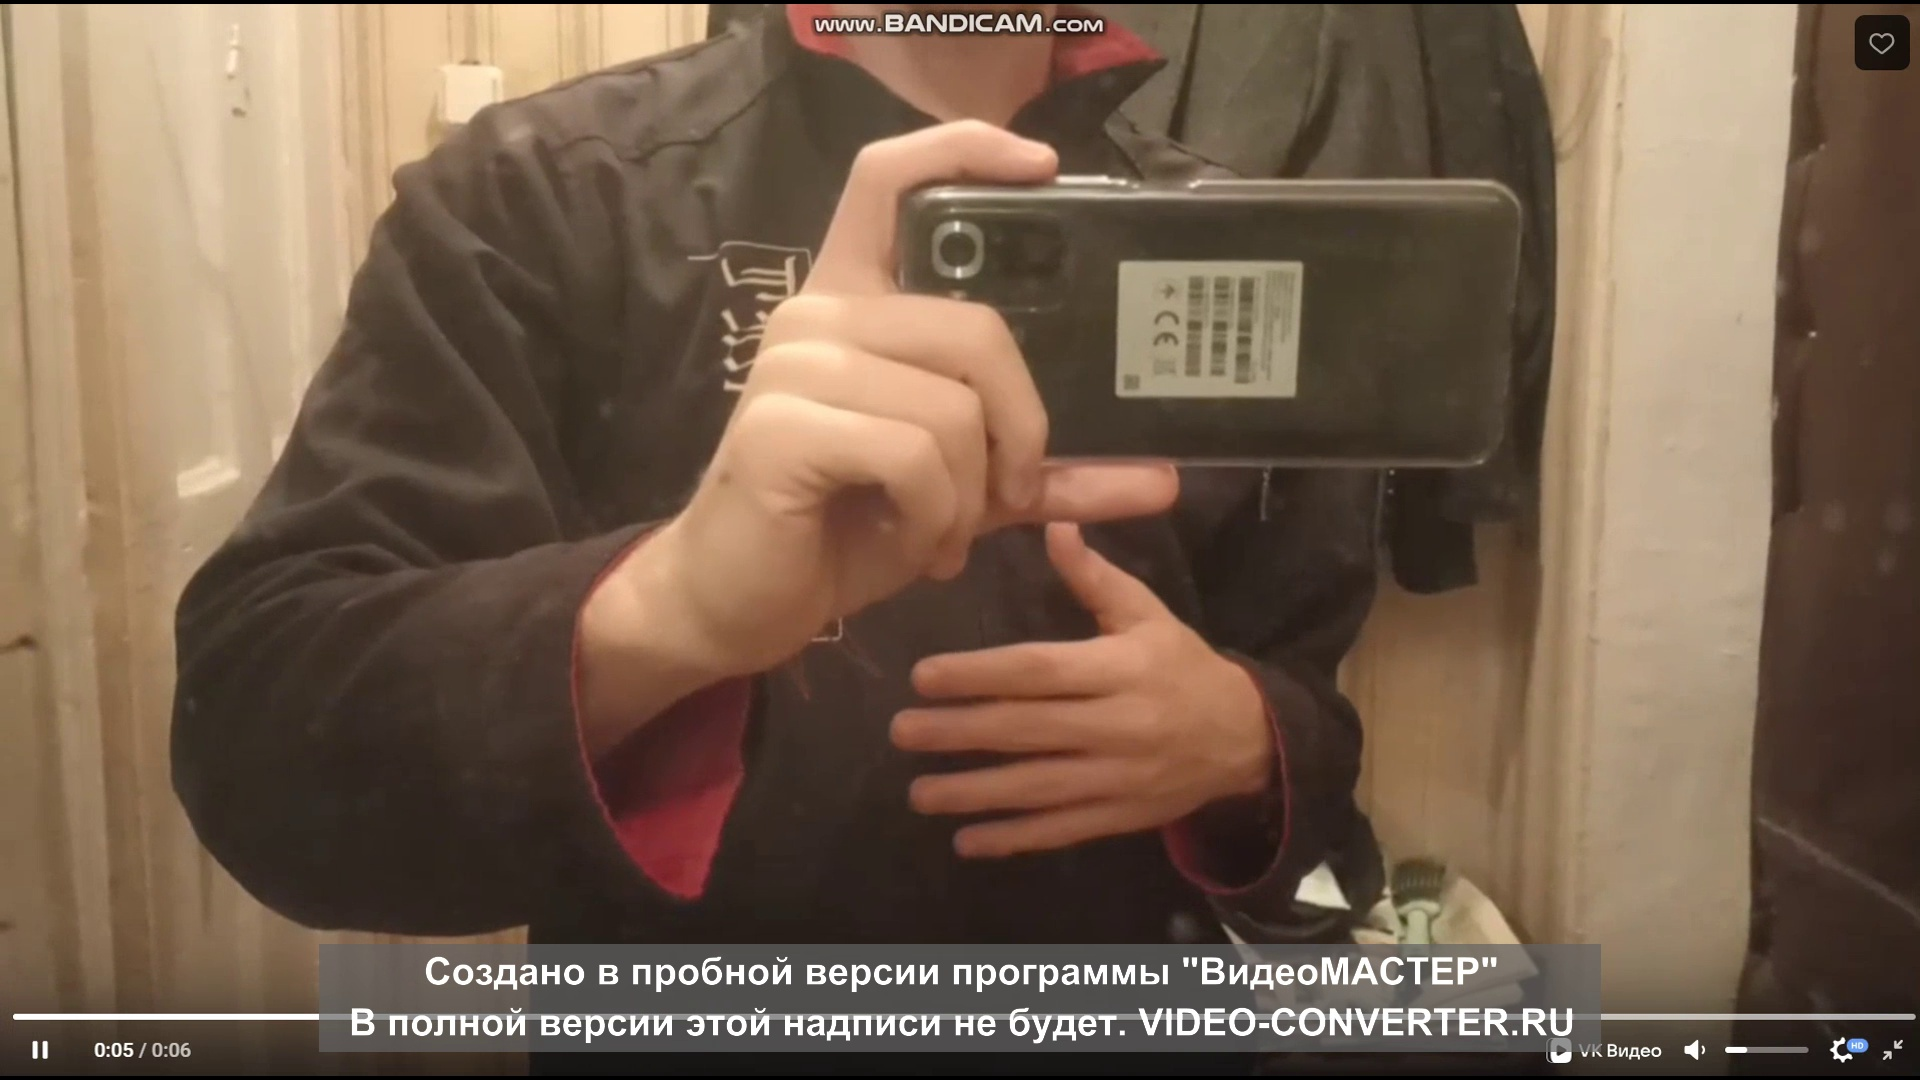Кисть: (893, 525, 1246, 861)
